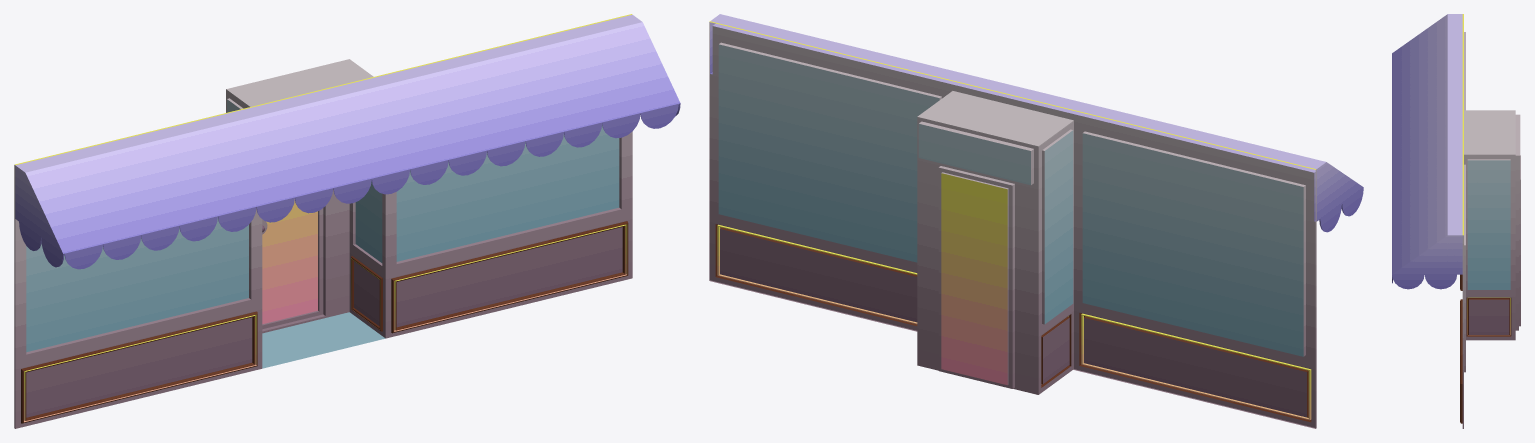
The model's file is Inward_entrance.fbx.
The picture shows the model from 3 angles, left to right: view 1: azimuth 30°, elevation 25°; view 2: azimuth 150°, elevation 25°; view 3: azimuth 270°, elevation 25°; orthographic projection. The views are drawn at different scales.
Parts seen in each view (by area): view 1: pSphere2; view 2: pSphere2; view 3: pSphere2.
Boxes of the visible parts, x1,y1,x2,y2 form: pSphere2: (14, 14, 680, 428); pSphere2: (709, 14, 1363, 428); pSphere2: (1392, 14, 1520, 428).
Bounding box in the file's own units: 564 × 230 × 139.
